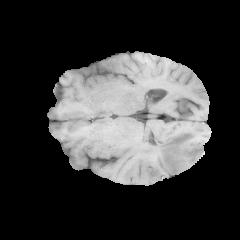glioma: (131, 131, 203, 185)
